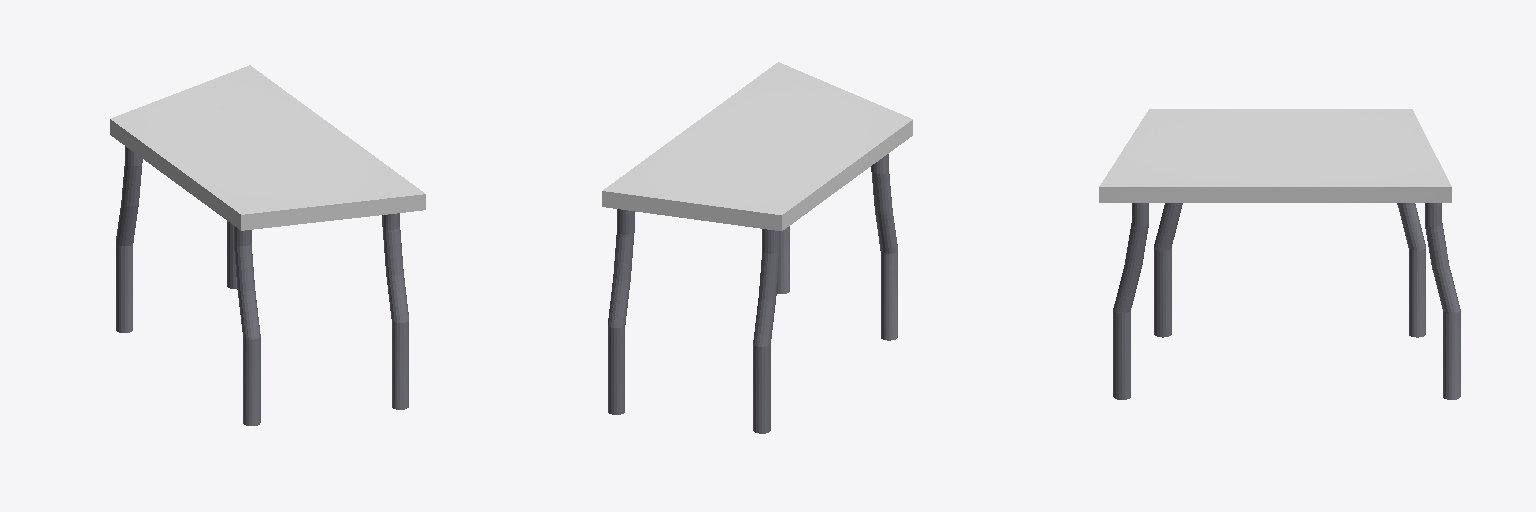
3 renders of one model, left to right at view 1: azimuth 30°, elevation 25°; view 2: azimuth 150°, elevation 25°; view 3: azimuth 270°, elevation 25°, orthographic.
Parts seen in each view (by area): view 1: Box001, Tube004, Tube003, Tube001, Tube002; view 2: Box001, Tube001, Tube002, Tube004, Tube003; view 3: Box001, Tube002, Tube003, Tube004, Tube001.
Boxes of the visible parts, box(x1,y1,x2,y2) form: Box001: box(110, 65, 425, 230); Tube004: box(234, 226, 260, 425); Tube003: box(382, 213, 408, 409); Tube001: box(116, 146, 142, 332); Tube002: box(227, 221, 236, 288); Box001: box(602, 62, 912, 230); Tube001: box(753, 229, 779, 433); Tube002: box(608, 209, 634, 414); Tube004: box(871, 154, 897, 340); Tube003: box(777, 226, 789, 293); Box001: box(1099, 109, 1451, 202); Tube002: box(1425, 203, 1460, 399); Tube003: box(1113, 203, 1148, 399); Tube004: box(1154, 203, 1182, 337); Tube001: box(1397, 203, 1425, 337).
Size of the model in its own units: 0.7588 by 0.9823 by 1.48.
Materials: 2 (2 with a texture image).